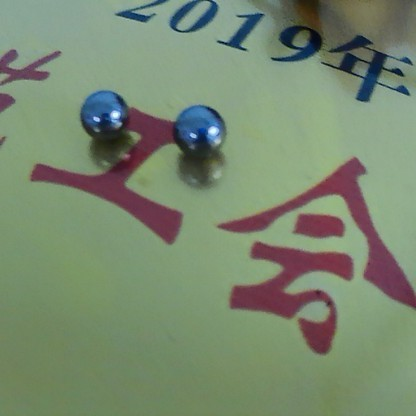ironball: (161, 104, 235, 166), (73, 80, 132, 145)
